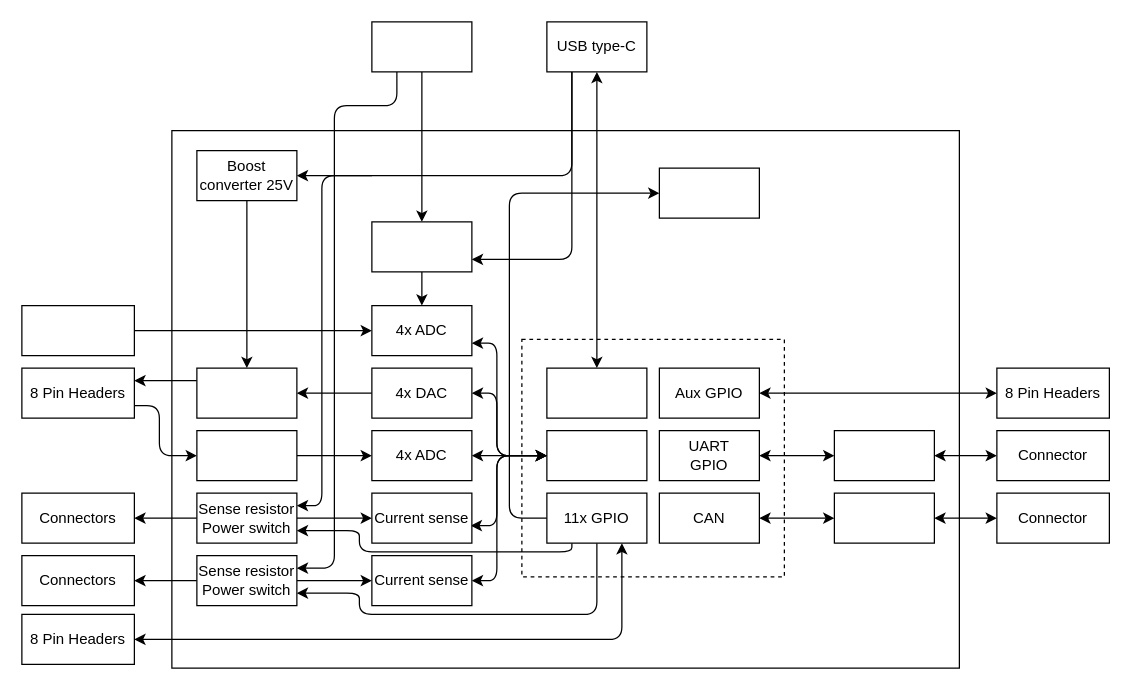
The diagram is 1131 pixels wide and 690 high, and some of its shapes have lost their labels. The centre of each missing label's shape, as x and y in pixels:
2 Temperature sensor: [77,330]
2x Voltage divider: [421,246]
CAN Transceiver: [883,517]
DC Jack 5V-24V: [421,46]
I2C: [596,455]
Op-Amp amplifier: [246,392]
Op-Amp Voltage divider: [246,455]
RGB LED: [708,192]
RS485 Transceiver: [883,455]
USB: [596,392]
